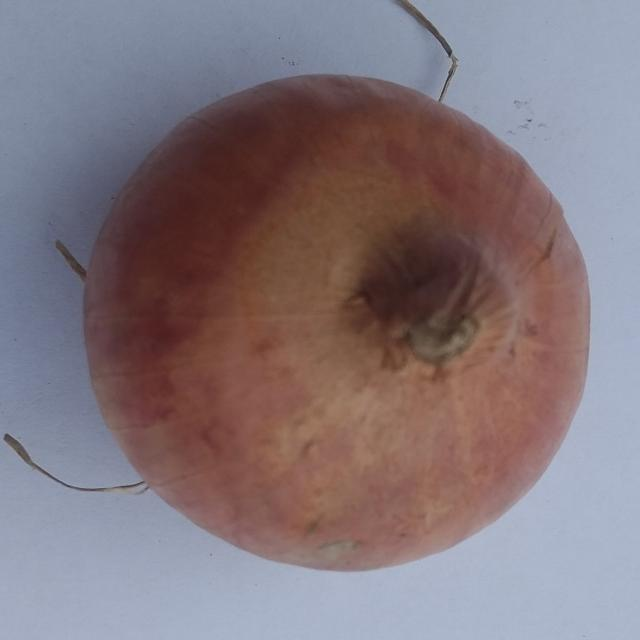onion: (79, 70, 596, 574)
